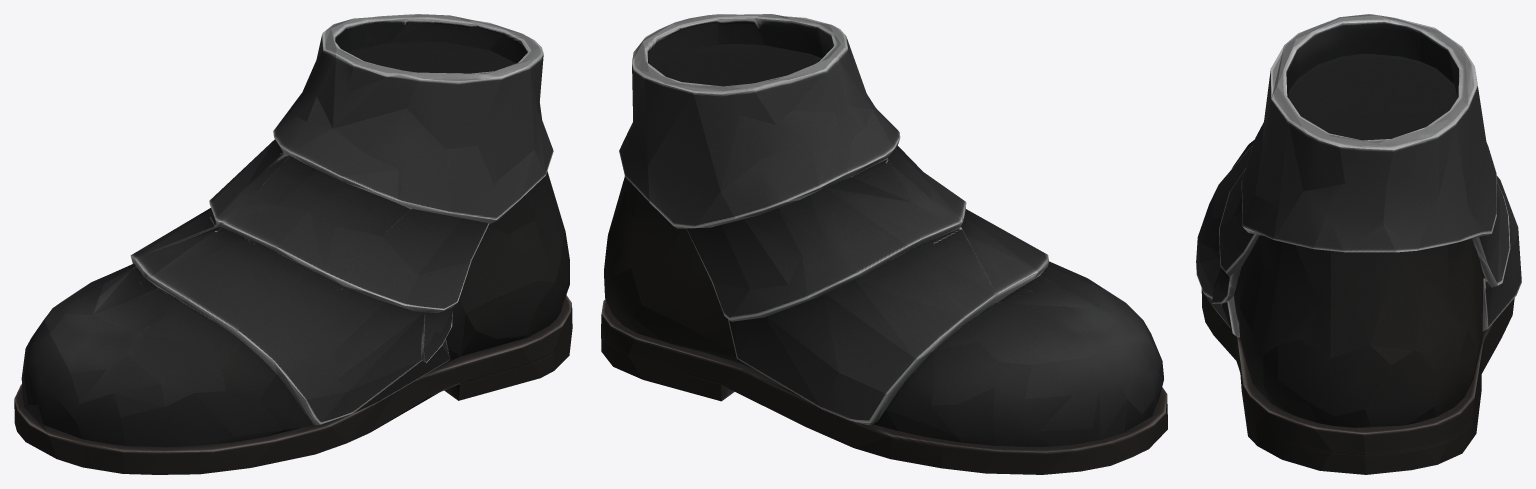
Rendered from boot.glb.
The picture shows the model from 3 angles, left to right: view 1: azimuth 30°, elevation 25°; view 2: azimuth 150°, elevation 25°; view 3: azimuth 270°, elevation 25°; orthographic projection. The views are drawn at different scales.
Visible parts, largest first — view 1: Mesh_0; view 2: Mesh_0; view 3: Mesh_0.
Part boxes in pixels (x1,y1,x2,y2): Mesh_0: (14, 14, 572, 474); Mesh_0: (601, 14, 1167, 474); Mesh_0: (1196, 14, 1521, 474).
Bounding box in the file's own units: 1.9 × 1.1 × 0.9354.
1 material, 1 textured.
